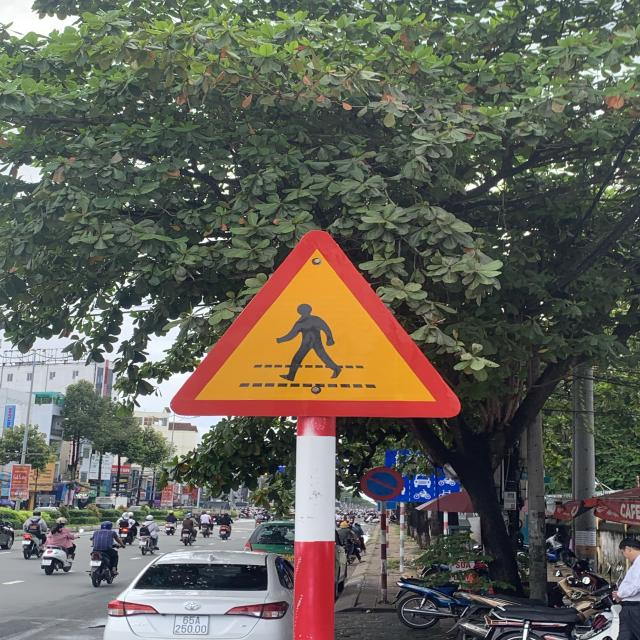Duong_Nguoi_Di_Bo_Sang_Ngang: (176, 234, 458, 411)
